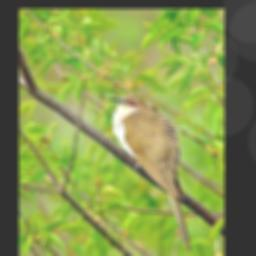Cuckoo: (108, 93, 193, 252)
